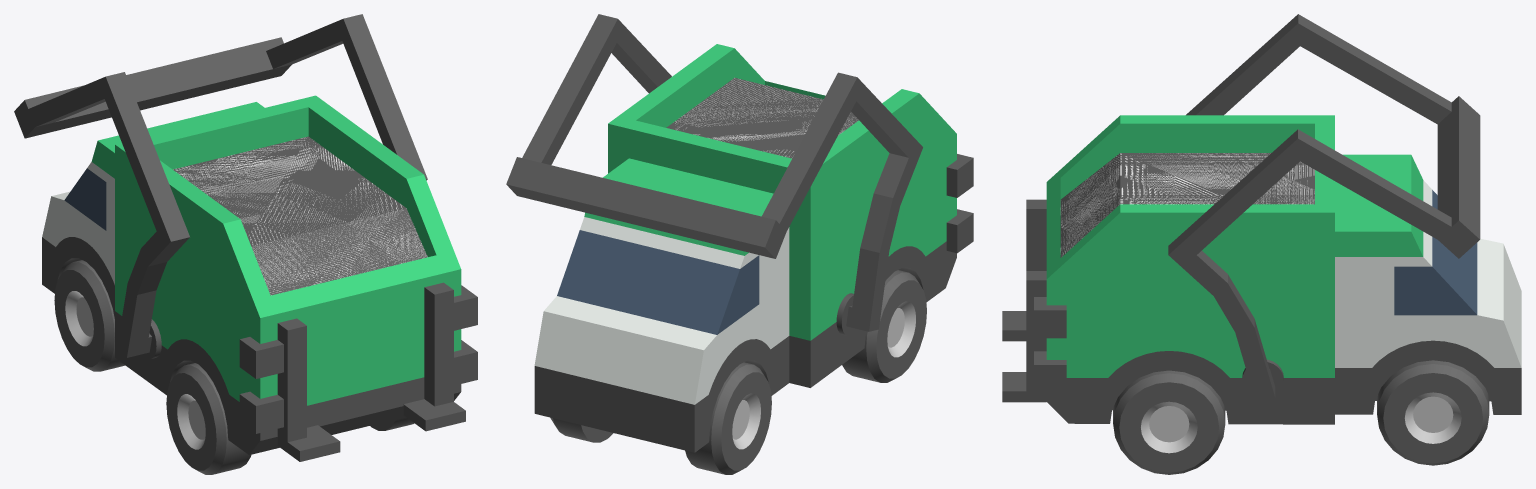
File: carGarbage.obj
3 renders of one model, left to right at view 1: azimuth 30°, elevation 25°; view 2: azimuth 150°, elevation 25°; view 3: azimuth 270°, elevation 25°, orthographic.
Visible parts, largest first — view 1: body 3, arm, bar 1, bar, wheelBackLeft 3, wheelFrontLeft 3; view 2: body 3, arm, wheelFrontLeft 3, wheelBackLeft 3, bar 1, wheelFrontRight 3; view 3: body 3, arm, wheelFrontRight 3, wheelBackRight 3, bar, bar 1.
Part boxes in pixels (x1,y1,x2,y2): body 3: [42, 95, 461, 455]; arm: [14, 14, 427, 358]; bar 1: [239, 318, 340, 461]; bar: [403, 282, 477, 431]; wheelBackLeft 3: [166, 363, 251, 474]; wheelFrontLeft 3: [54, 260, 125, 371]; body 3: [534, 44, 956, 452]; arm: [506, 14, 922, 335]; wheelFrontLeft 3: [685, 362, 771, 474]; wheelBackLeft 3: [842, 270, 926, 382]; bar 1: [946, 154, 973, 253]; wheelFrontRight 3: [550, 417, 613, 442]; body 3: [1046, 115, 1521, 424]; arm: [1168, 14, 1480, 402]; wheelFrontRight 3: [1377, 360, 1489, 465]; wheelBackRight 3: [1113, 370, 1225, 474]; bar: [1002, 271, 1066, 402]; bar 1: [1002, 199, 1046, 341].
Size of the model in its own units: 7.35 by 9.68 by 12.95.
